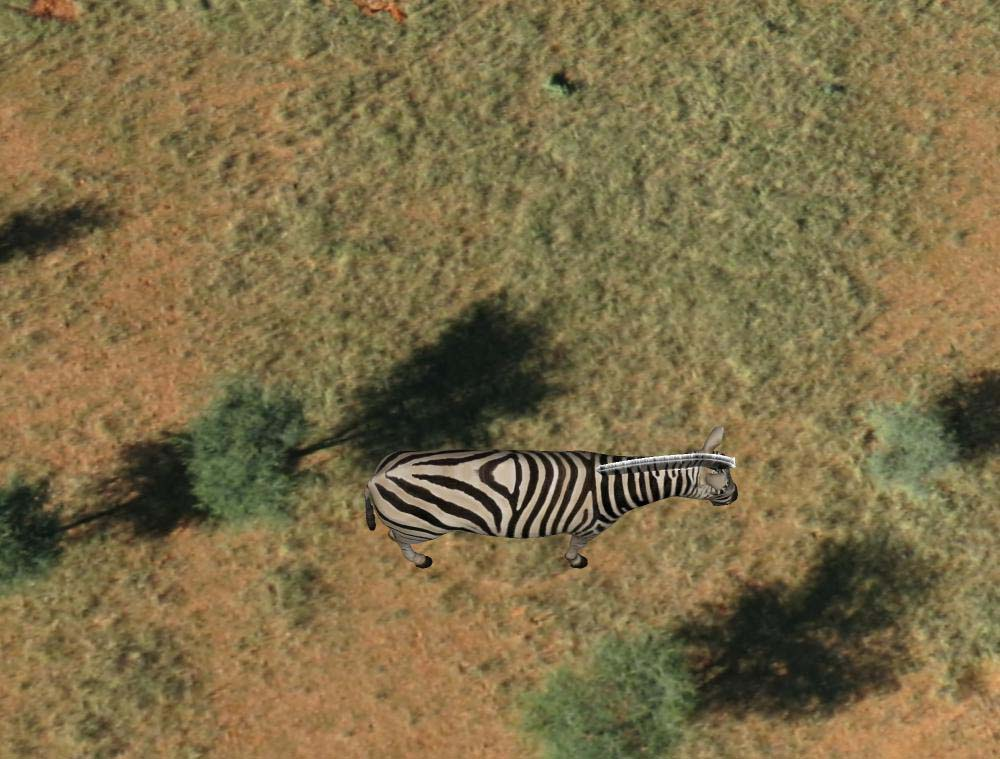zebra: (366, 424, 742, 575)
